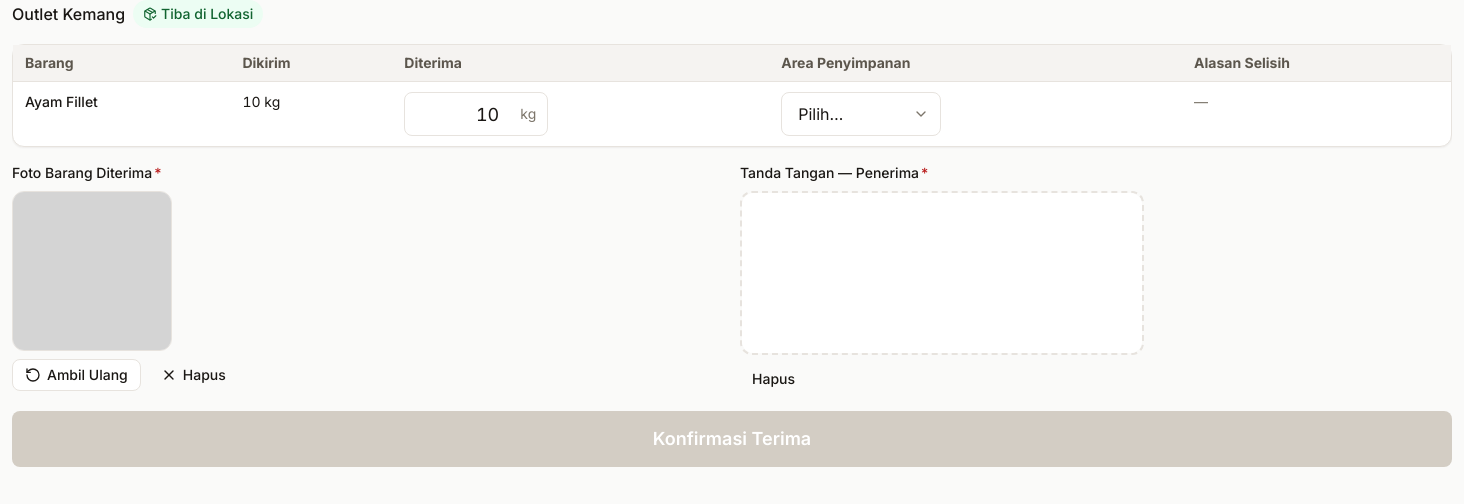
Test: ReceiveDropForm — wajib-foto / wajib-signature gate (FR-LOG-14/15) › demands a discrepancy reason once received qty differs from sent qty, blocking submit until filled
This screenshot has width=1464, height=504.
Select "Freezer" in the dropdown: (861, 114) [781,92,941,136]
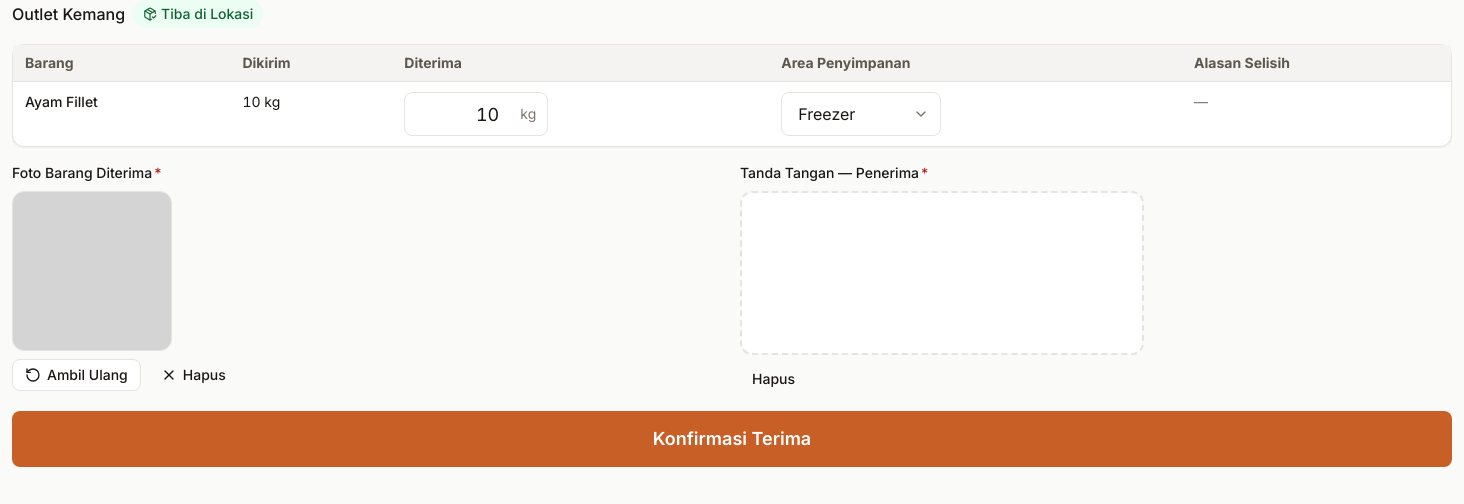
Replace the text in the field with "8": (476, 114) [404,92,548,136]
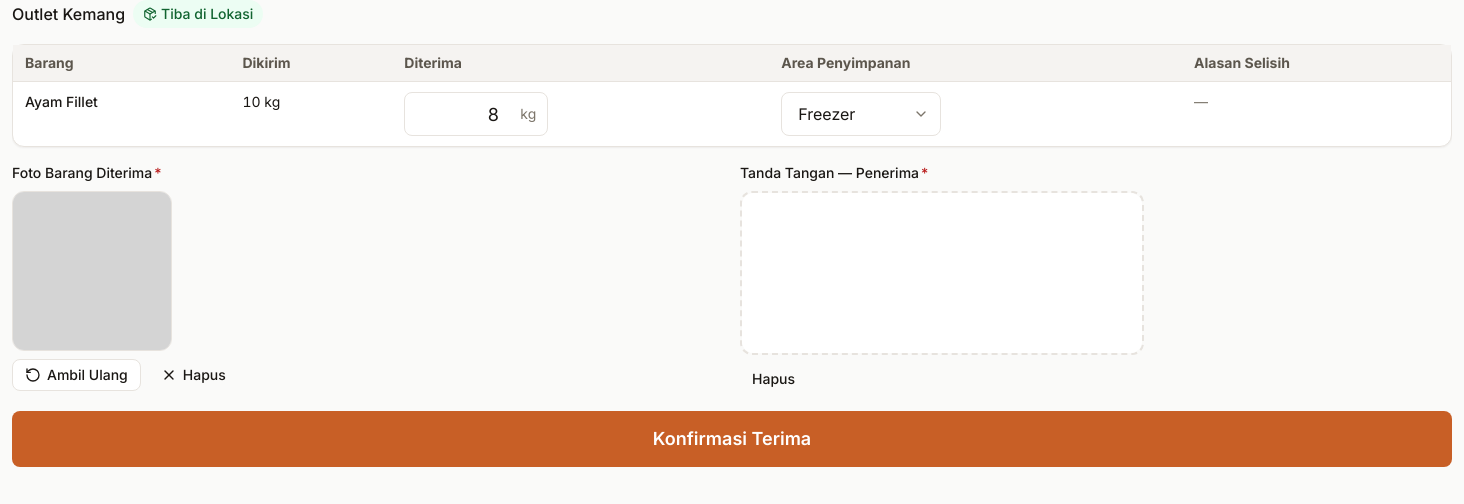
Leave the field, box [404,92,548,136]
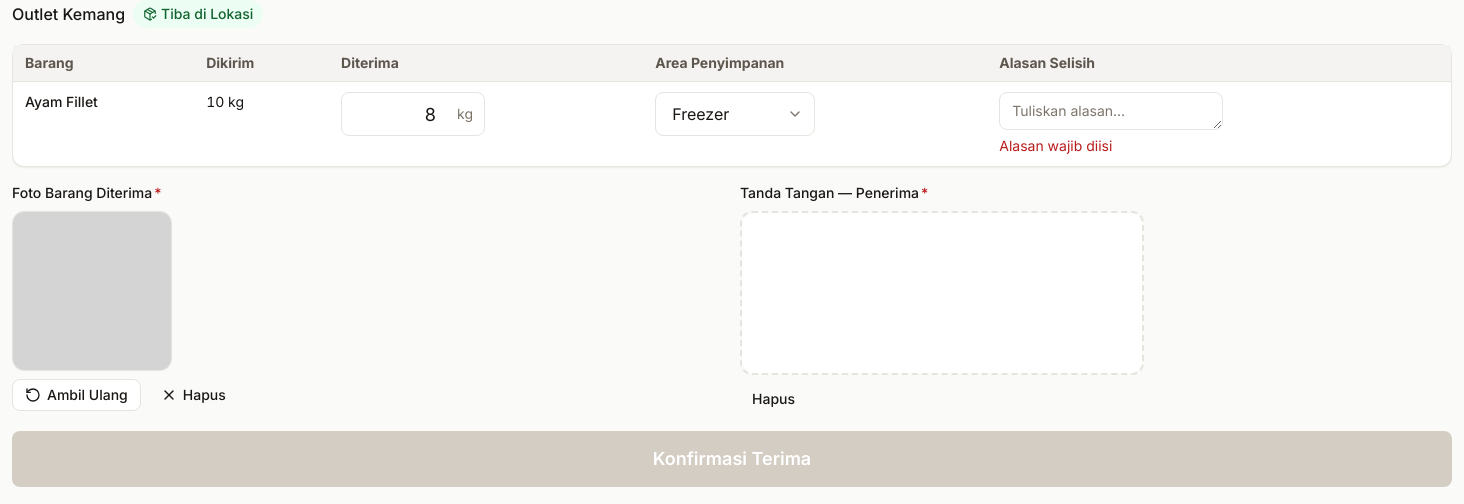
Expected: the button "Konfirmasi Terima" is disabled, [12,431,1452,487]
Expected: the text "Alasan wajib diisi" is shown, [999,137,1112,154]
